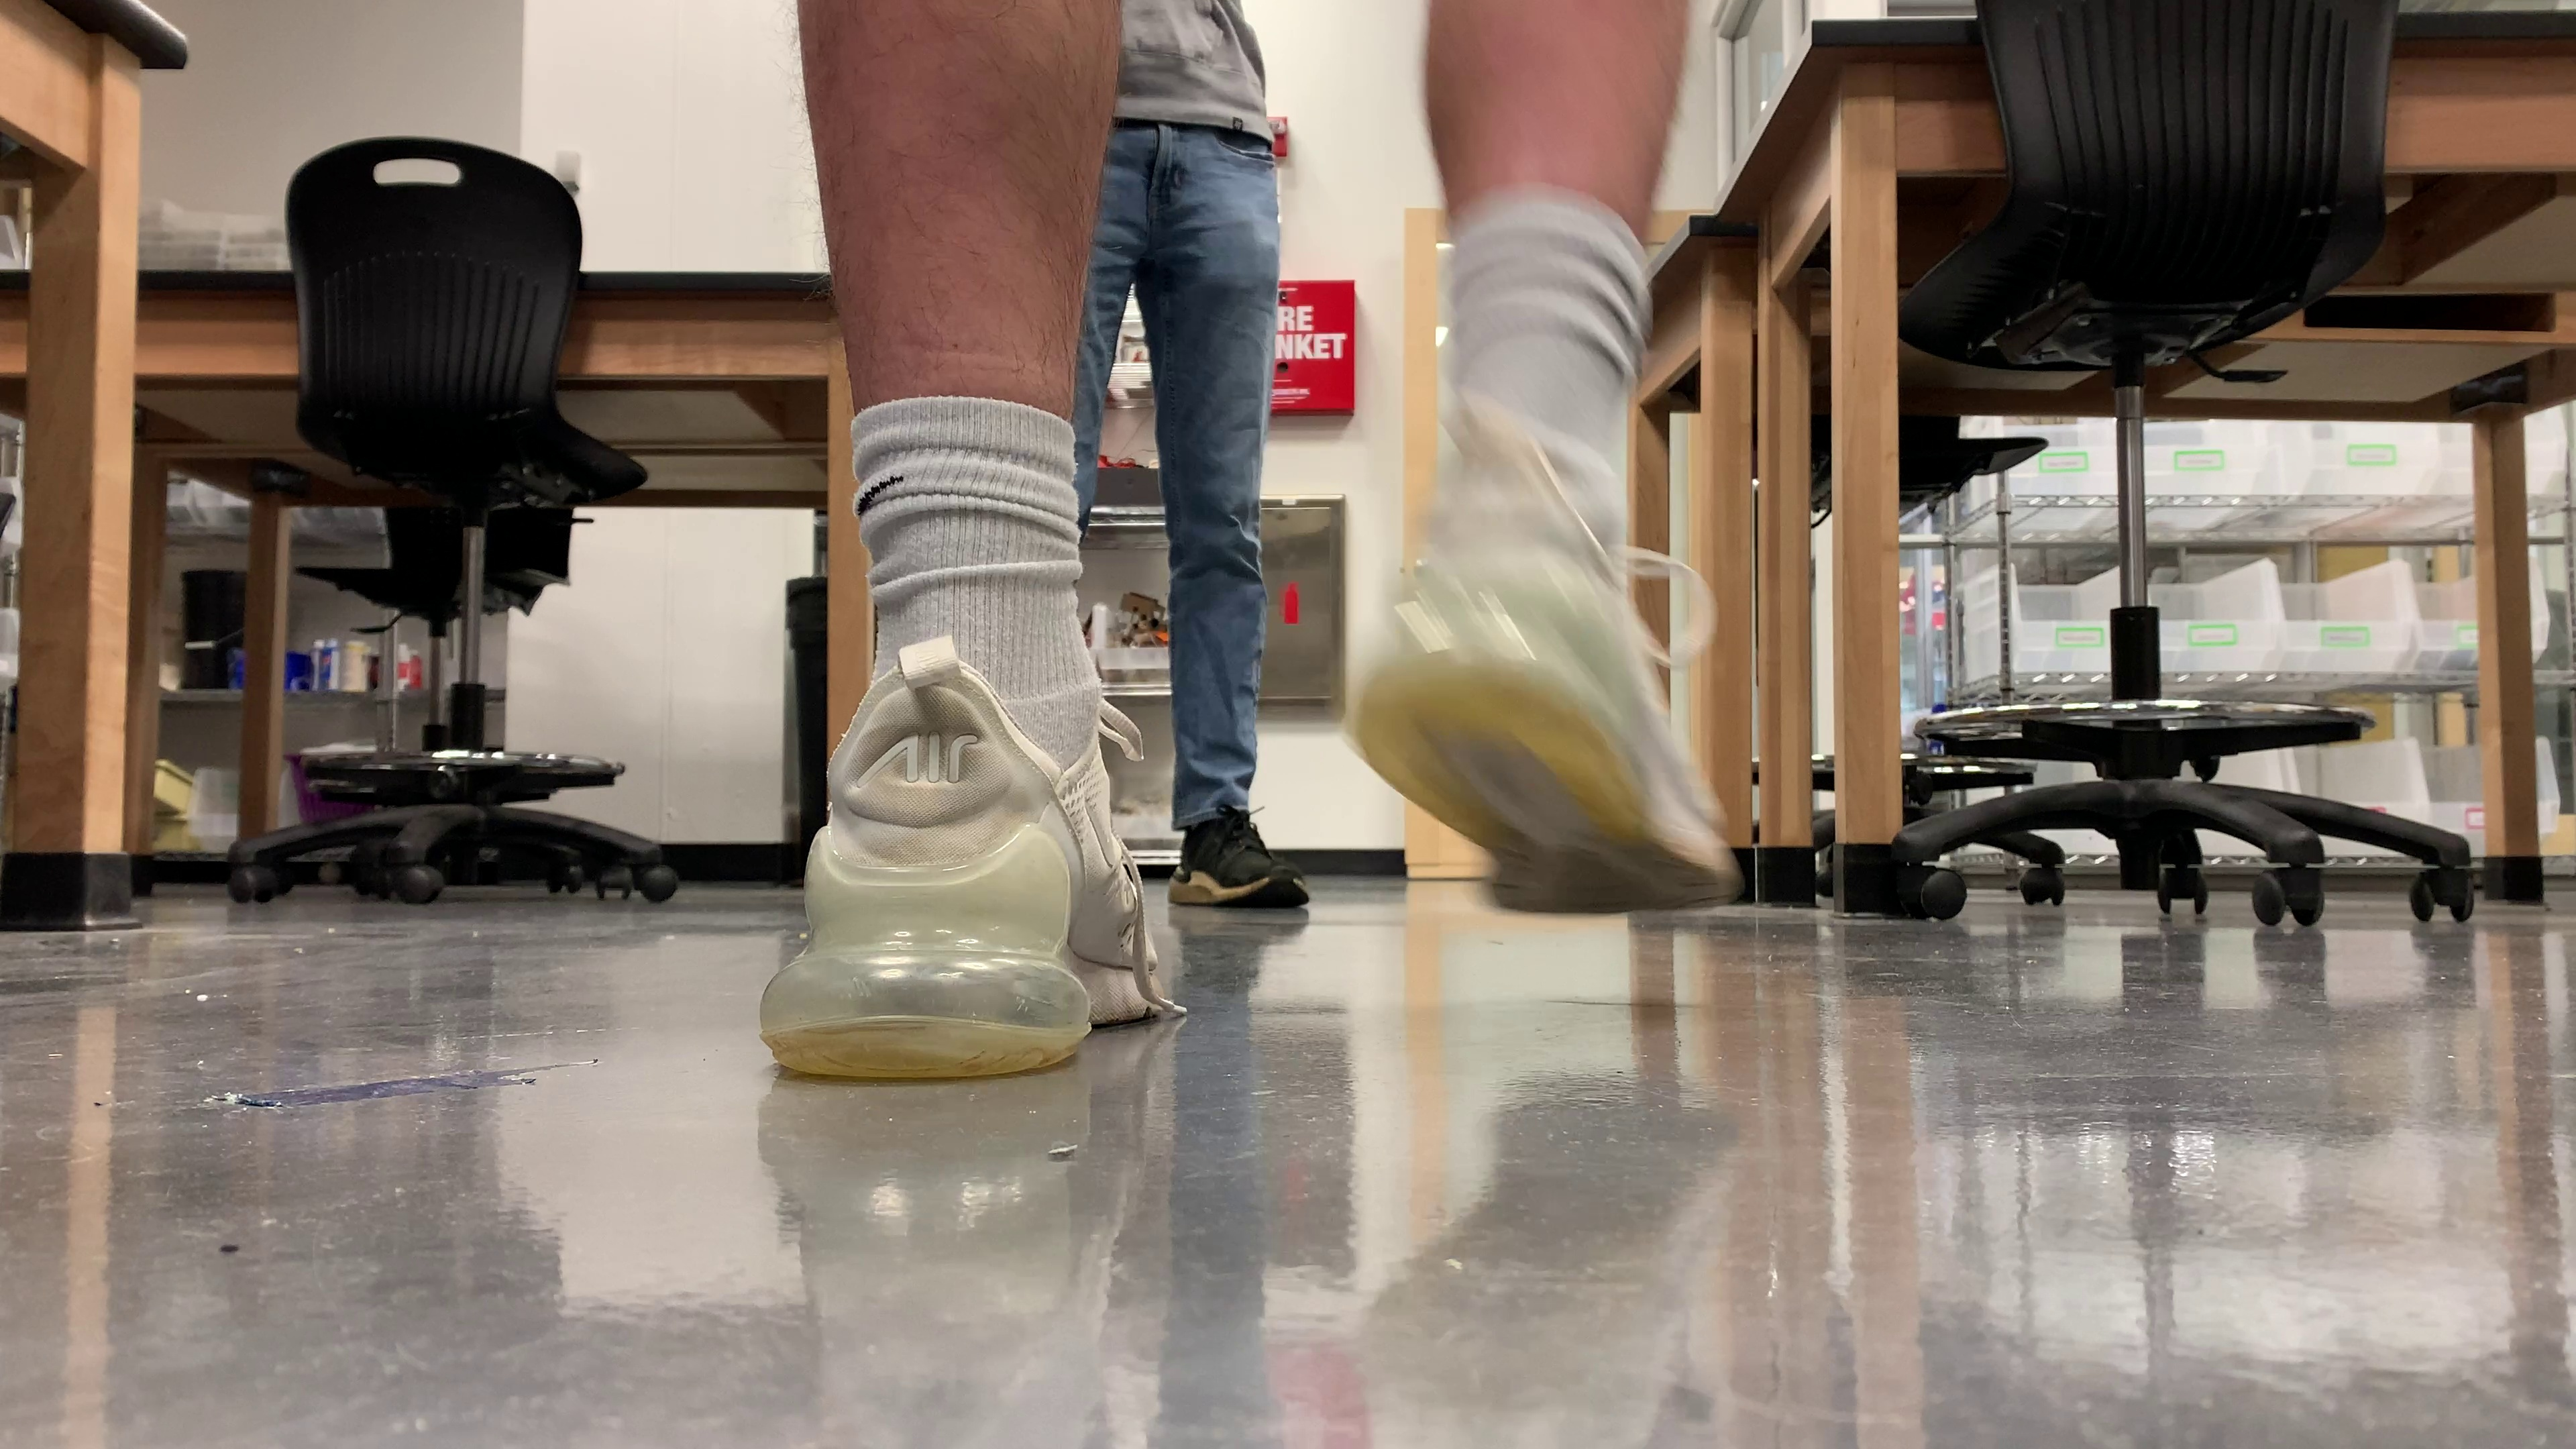shoe: (759, 665, 1155, 1079), (1166, 810, 1307, 911)
